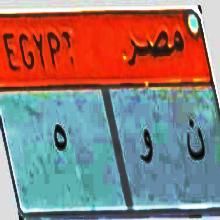5: (51, 119, 70, 157)
noon: (185, 109, 206, 177)
waw: (138, 127, 155, 177)
